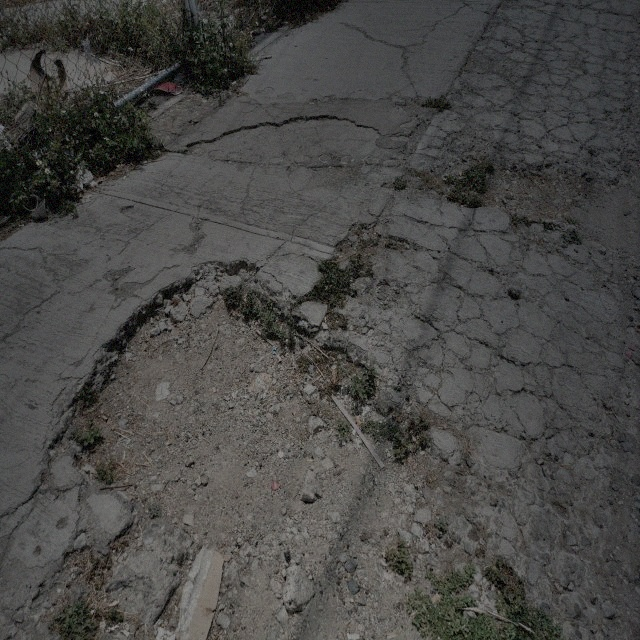pothole: (67, 249, 377, 603), (466, 158, 629, 246), (186, 115, 381, 177)
